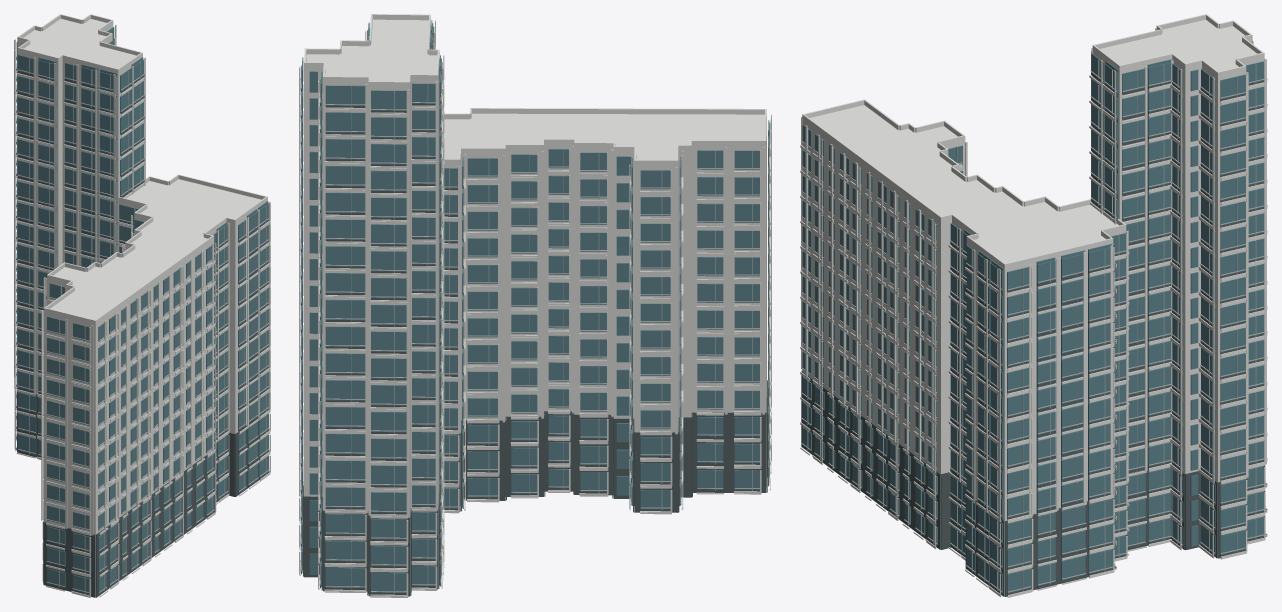
The model's file is bespoke-acro-riverpark-107.glb.
3 renders of one model, left to right at view 1: azimuth 30°, elevation 25°; view 2: azimuth 150°, elevation 25°; view 3: azimuth 270°, elevation 25°, orthographic. The views are drawn at different scales.
Visible parts, largest first — view 1: 107_R00_glass, 107_R00_body, 107_R00_white, 107_R01_glass, 107_R01_white, 107_R01_body, 107_R00_dark, 107_R00_frame, 107_R01_dark, 107_R01_frame; view 2: 107_R00_glass, 107_R01_glass, 107_R00_body, 107_R00_white, 107_R01_white, 107_R01_body, 107_R00_dark, 107_R00_frame, 107_R01_dark, 107_R01_frame; view 3: 107_R00_glass, 107_R01_glass, 107_R00_body, 107_R00_white, 107_R01_white, 107_R01_body, 107_R00_dark, 107_R00_frame, 107_R01_dark, 107_R01_frame.
Boxes of the visible parts, x1,y1,x2,y2 form: 107_R00_glass: [47, 201, 268, 593]; 107_R00_body: [44, 179, 267, 597]; 107_R00_white: [41, 174, 270, 597]; 107_R01_glass: [16, 27, 143, 455]; 107_R01_white: [14, 14, 145, 459]; 107_R01_body: [17, 19, 142, 393]; 107_R00_dark: [43, 219, 269, 597]; 107_R00_frame: [46, 206, 269, 593]; 107_R01_dark: [16, 43, 144, 457]; 107_R01_frame: [16, 30, 144, 455]; 107_R00_glass: [442, 120, 769, 509]; 107_R01_glass: [301, 20, 441, 592]; 107_R00_body: [442, 113, 766, 505]; 107_R00_white: [442, 108, 771, 514]; 107_R01_white: [299, 14, 444, 597]; 107_R01_body: [304, 19, 439, 595]; 107_R00_dark: [442, 185, 767, 512]; 107_R00_frame: [442, 122, 770, 510]; 107_R01_dark: [301, 88, 441, 596]; 107_R01_frame: [300, 26, 442, 594]; 107_R00_glass: [802, 124, 1126, 593]; 107_R01_glass: [1091, 41, 1263, 554]; 107_R00_body: [802, 105, 1126, 596]; 107_R00_white: [800, 99, 1129, 597]; 107_R01_white: [1089, 14, 1267, 559]; 107_R01_body: [1092, 19, 1264, 557]; 107_R00_dark: [801, 241, 1127, 596]; 107_R00_frame: [801, 128, 1127, 592]; 107_R01_dark: [1091, 72, 1265, 558]; 107_R01_frame: [1090, 59, 1265, 553].
Bounding box in the file's own units: 50.22 × 68 × 59.33.
